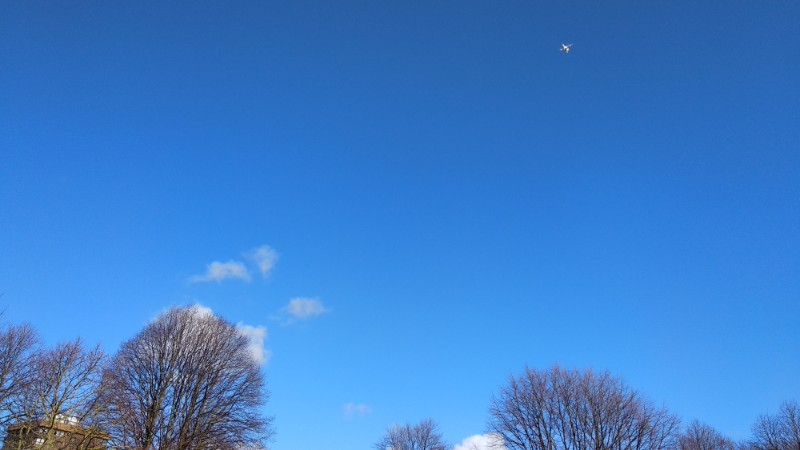drone: (556, 41, 572, 54)
